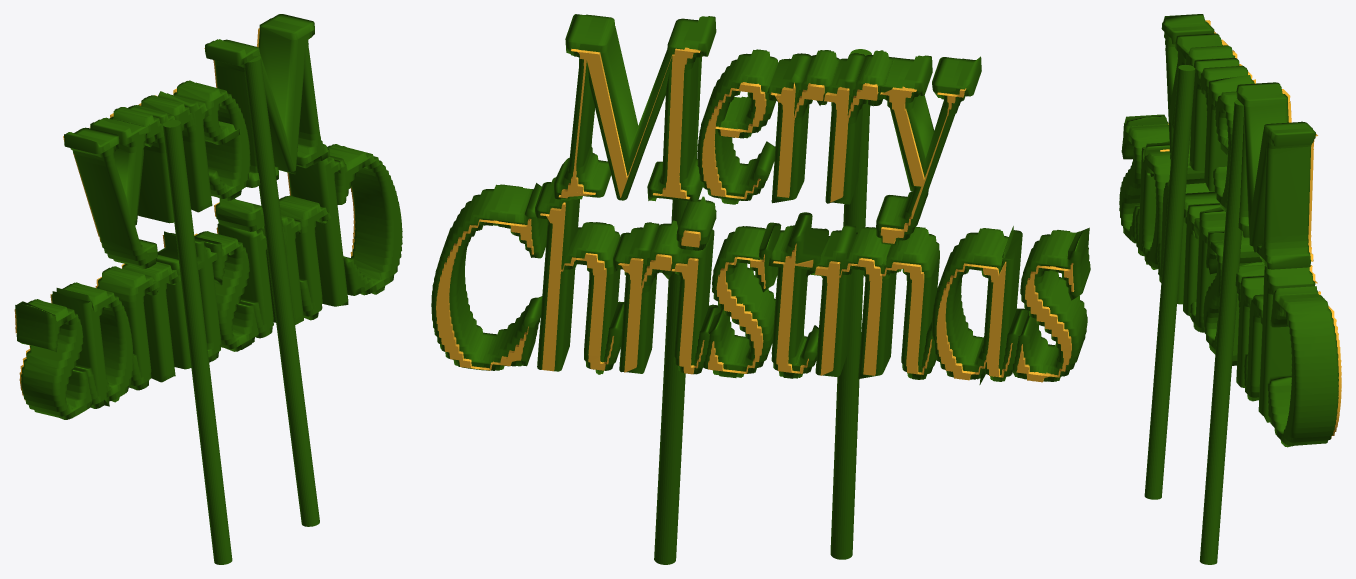
The model's file is green-topper-draco.glb.
3 renders of one model, left to right at view 1: azimuth 30°, elevation 25°; view 2: azimuth 150°, elevation 25°; view 3: azimuth 270°, elevation 25°, orthographic. The views are drawn at different scales.
Visible parts, largest first — view 1: Cylinder.002; view 2: Cylinder.002; view 3: Cylinder.002.
Boxes of the visible parts, bbox=[...] form: Cylinder.002: bbox=[14, 14, 402, 564]; Cylinder.002: bbox=[431, 14, 1090, 564]; Cylinder.002: bbox=[1119, 14, 1341, 564].
Bounding box in the file's own units: 8.39 × 8.3 × 3.71.
